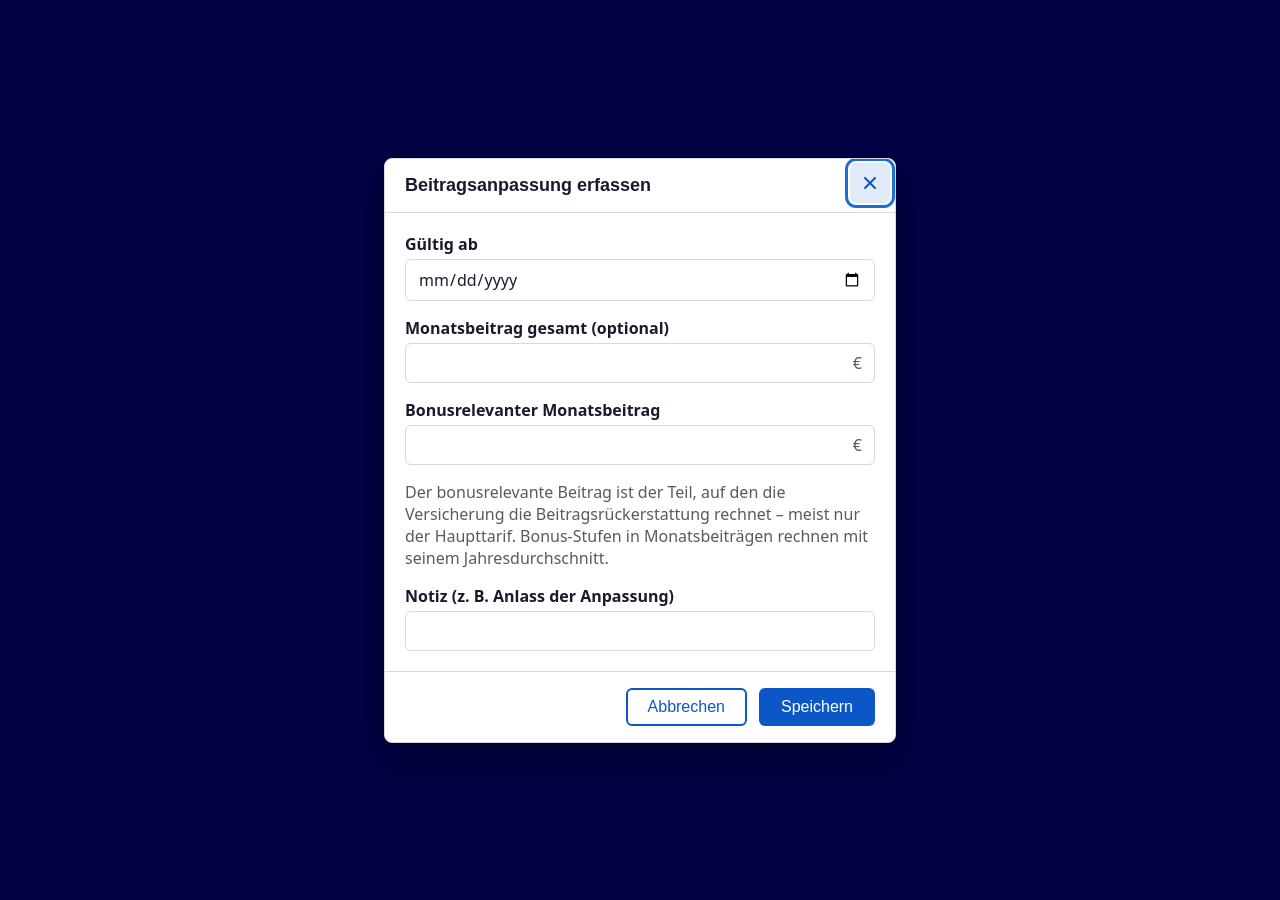
Test: PremiumFormDialog › refuses an entry without either figure
In the date field labelled "Gültig ab": (640, 280) [405,258,875,300], type "2024-07-01"
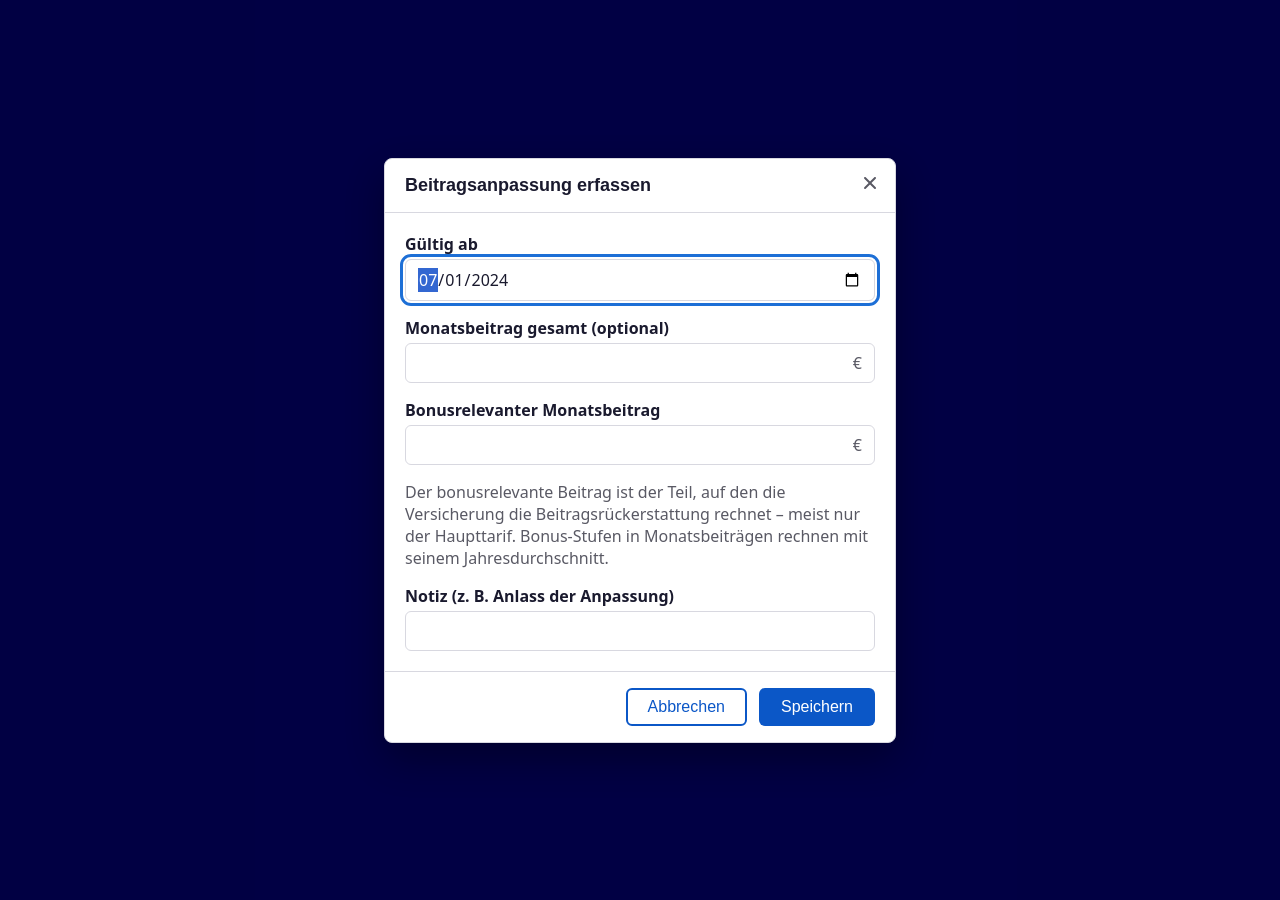
Submit the form, box [405,232,875,650]
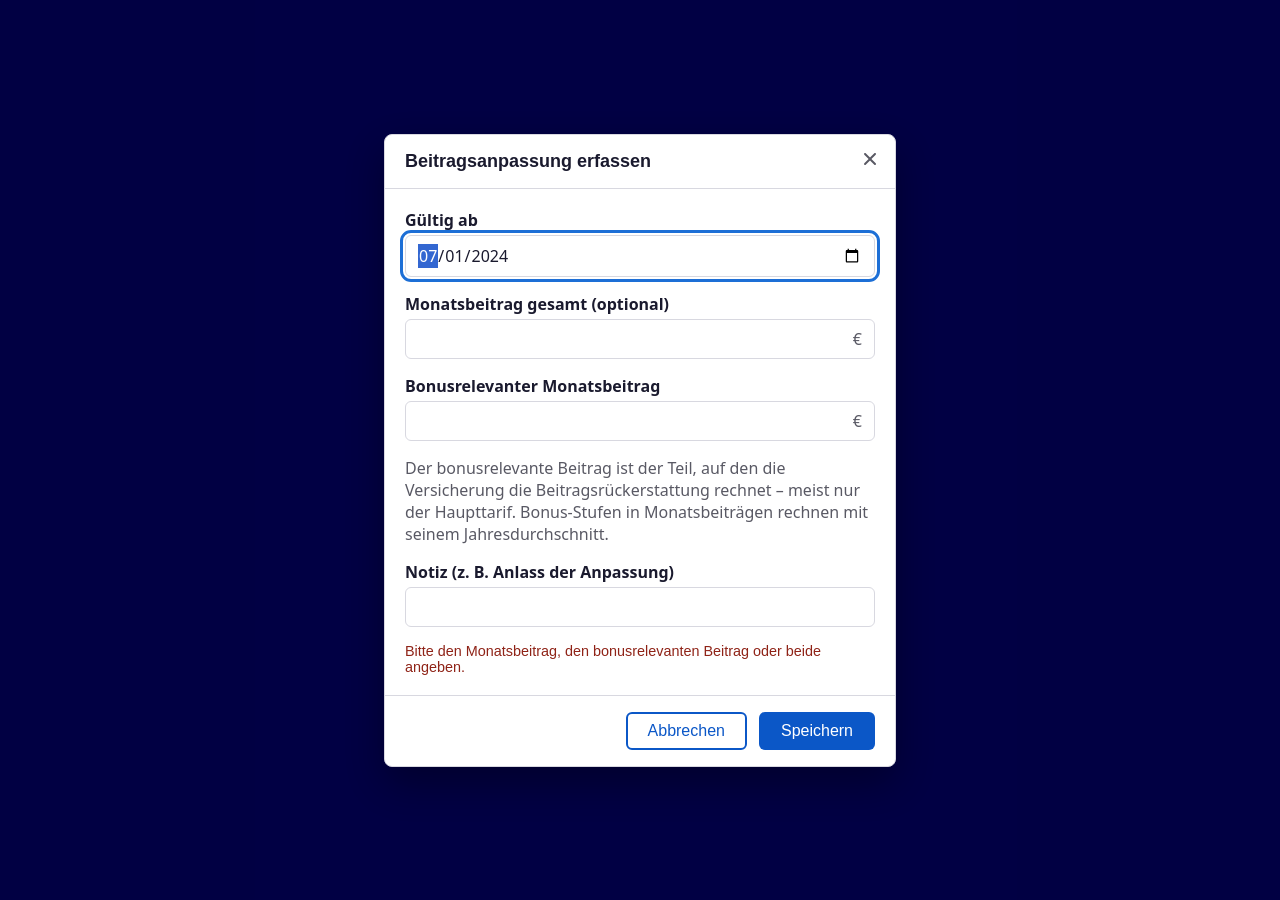
Now the text "den bonusrelevanten Beitrag oder beide" is shown, box [405,642,821,674]
